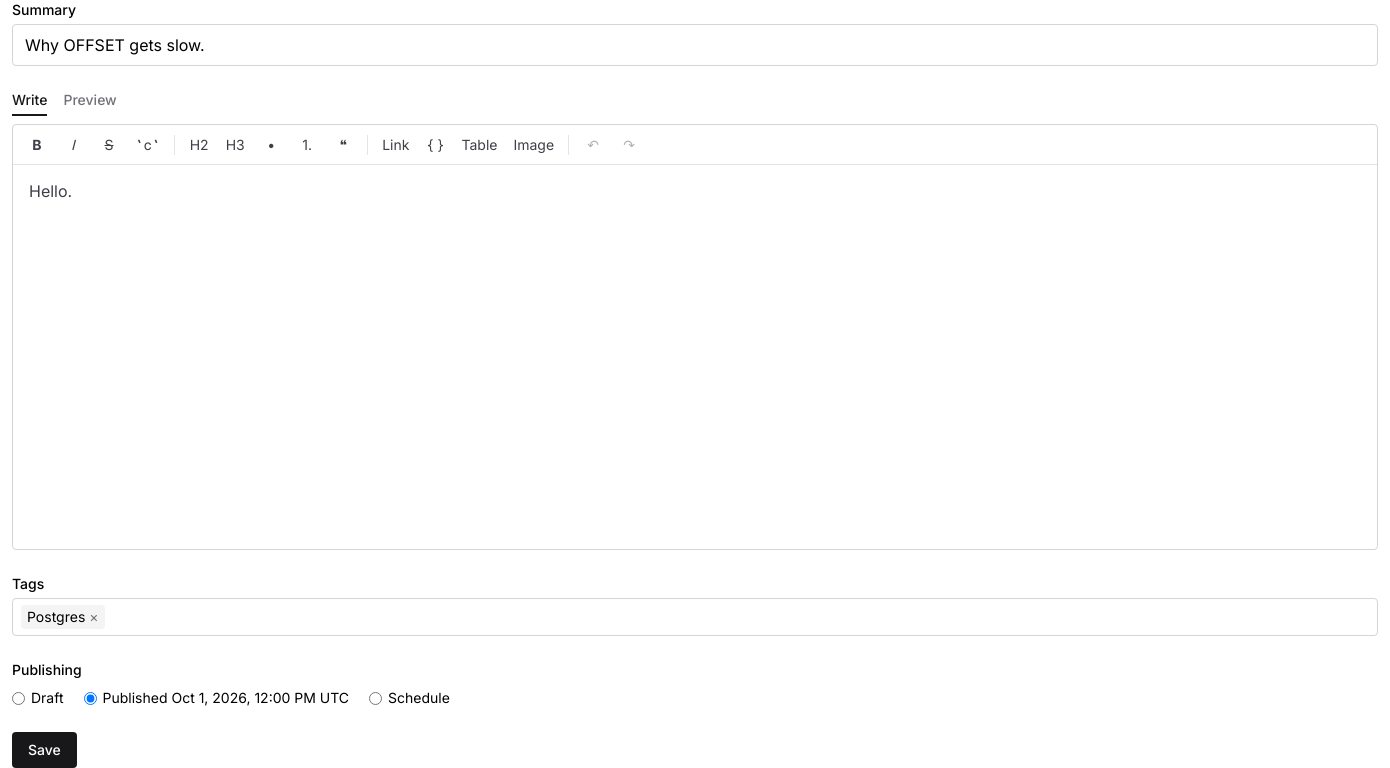
Test case: PostEditor, existing post › puts a taken slug on the slug field
This screenshot has width=1390, height=768.
(page scrolled)
Step 1. Click the button "Save" → (44, 750), box x1=12 y1=732 x2=77 y2=767
(page scrolled)
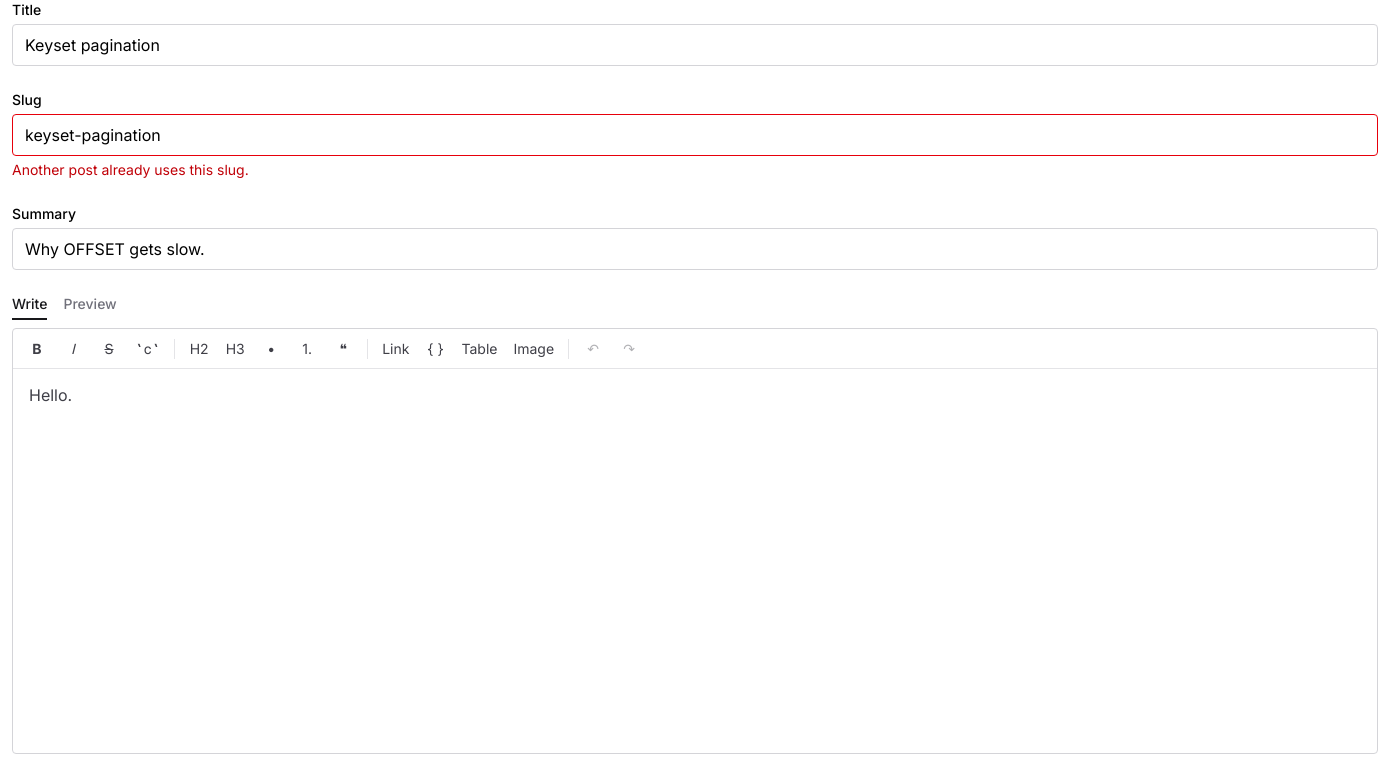
Check: the text "Another post already uses this slug." is shown, box x1=12 y1=161 x2=249 y2=178
